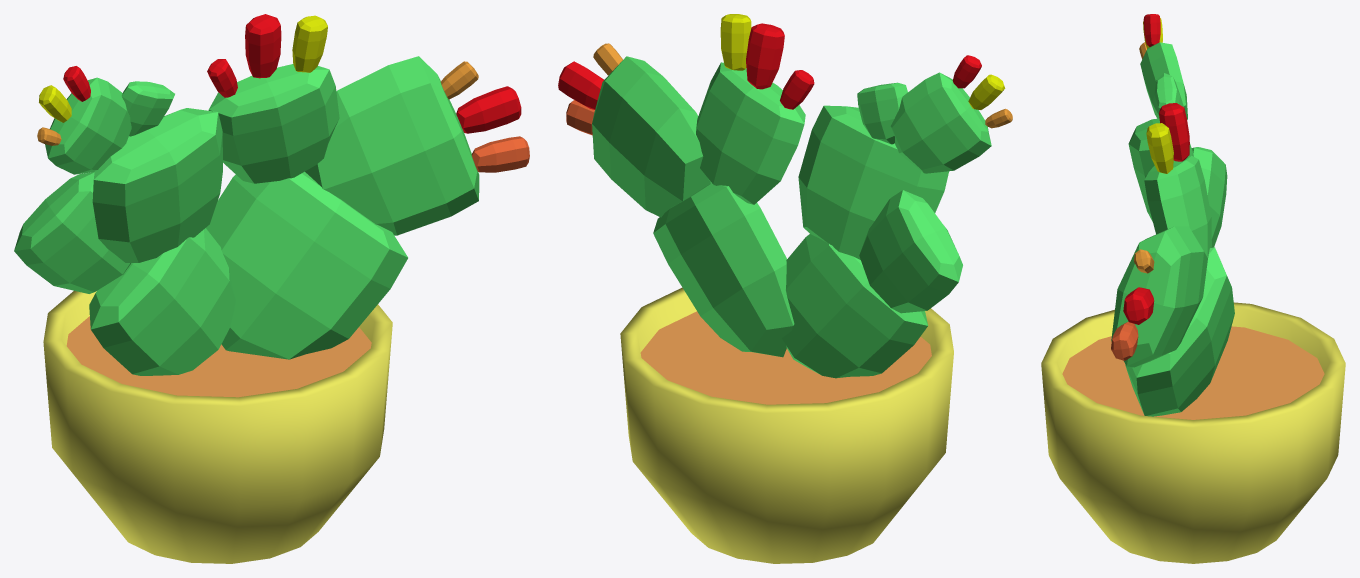
File: ficupaletta.fbx
The picture shows the model from 3 angles, left to right: view 1: azimuth 30°, elevation 25°; view 2: azimuth 150°, elevation 25°; view 3: azimuth 270°, elevation 25°; orthographic projection. The views are drawn at different scales.
Parts seen in each view (by area): view 1: Plane.001, Cube.001, Cube.003, Cube.005, Cube, Cube.002, Circle.001, Cube.004, Cube.006, Cube.013, Cube.010, Cube.007 (+6 smaller); view 2: Plane.001, Cube.001, Cube, Cube.003, Cube.005, Circle.001, Cube.002, Cube.004, Cube.006, Cube.007, Cube.010, Cube.009 (+6 smaller); view 3: Plane.001, Circle.001, Cube.003, Cube.001, Cube.002, Cube.006, Cube.004, Cube.005, Cube.010, Cube.009, Cube.013, Cube.012 (+3 smaller).
Boxes of the visible parts, <box> form: Plane.001: <box>43,290,392,563</box>; Cube.001: <box>206,171,407,359</box>; Cube.003: <box>305,56,479,235</box>; Cube.005: <box>92,108,222,262</box>; Cube: <box>89,228,235,375</box>; Cube.002: <box>208,64,339,183</box>; Circle.001: <box>66,316,371,397</box>; Cube.004: <box>14,172,130,293</box>; Cube.006: <box>45,77,131,174</box>; Cube.013: <box>456,86,521,133</box>; Cube.010: <box>245,14,281,78</box>; Cube.007: <box>121,81,174,136</box>; Plane.001: <box>620,287,953,563</box>; Cube.001: <box>653,183,794,357</box>; Cube: <box>782,234,928,378</box>; Cube.003: <box>592,56,711,217</box>; Cube.005: <box>798,105,948,259</box>; Circle.001: <box>640,311,931,404</box>; Cube.002: <box>696,62,805,204</box>; Cube.004: <box>859,190,962,313</box>; Cube.006: <box>890,72,991,173</box>; Cube.007: <box>857,82,907,144</box>; Cube.010: <box>746,23,784,89</box>; Cube.009: <box>720,14,751,70</box>; Plane.001: <box>1041,302,1345,563</box>; Circle.001: <box>1062,326,1324,419</box>; Cube.003: <box>1111,226,1207,367</box>; Cube.001: <box>1125,247,1234,416</box>; Cube.002: <box>1144,155,1211,257</box>; Cube.006: <box>1140,42,1187,119</box>; Cube.004: <box>1191,147,1227,247</box>; Cube.005: <box>1128,118,1193,221</box>; Cube.010: <box>1159,103,1189,161</box>; Cube.009: <box>1146,123,1173,173</box>; Cube.013: <box>1123,287,1154,324</box>; Cube.012: <box>1111,322,1138,360</box>.
Size of the model in its own units: 58.22 by 61.7 by 37.33.
